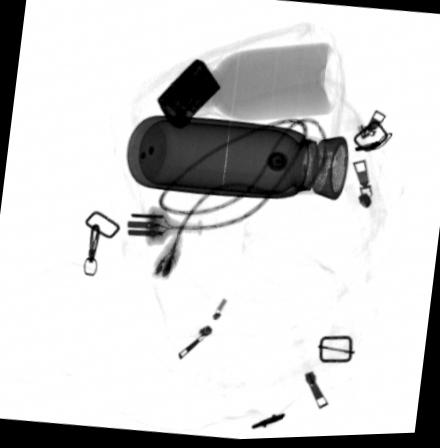Lighter: (156, 59, 221, 130)
